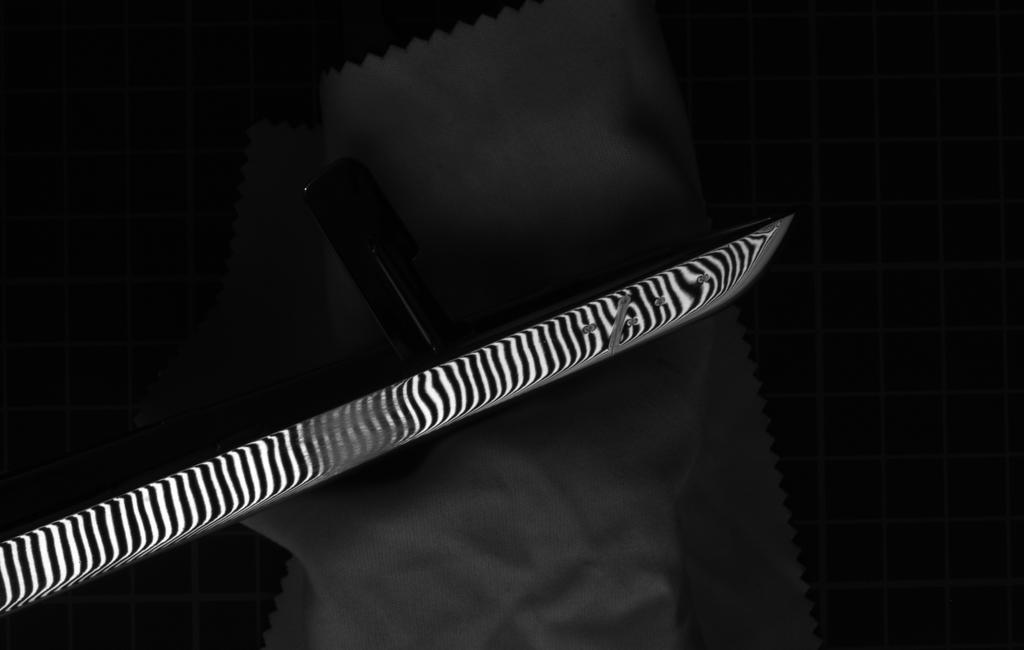Pierced: (578, 318, 601, 339), (695, 270, 716, 290), (649, 294, 670, 311), (621, 315, 641, 332)
Pitting: (299, 375, 415, 487)
Scratch: (603, 289, 635, 359)
